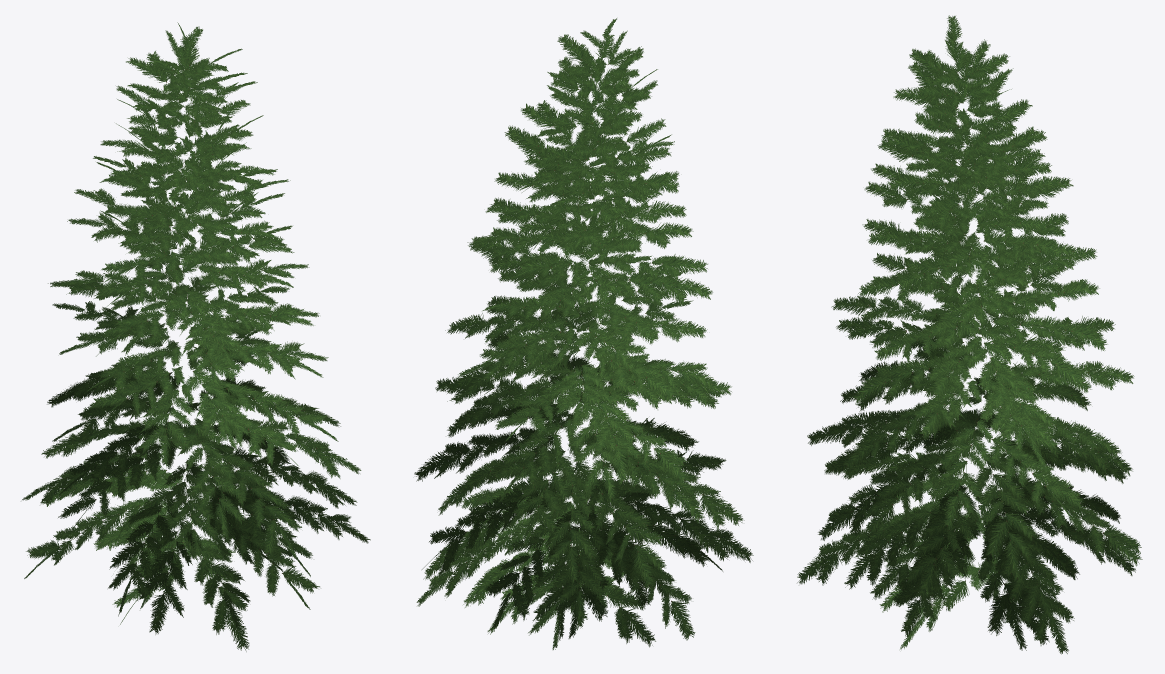
Rendered from SM_Tree_Pine_A_Leaves.glb.
3 renders of one model, left to right at view 1: azimuth 30°, elevation 25°; view 2: azimuth 150°, elevation 25°; view 3: azimuth 270°, elevation 25°, orthographic.
Parts seen in each view (by area): view 1: SM_Tree_Pine_A_Leaves; view 2: SM_Tree_Pine_A_Leaves; view 3: SM_Tree_Pine_A_Leaves.
Boxes of the visible parts, bbox=[...] form: SM_Tree_Pine_A_Leaves: bbox=[22, 22, 370, 651]; SM_Tree_Pine_A_Leaves: bbox=[414, 18, 753, 649]; SM_Tree_Pine_A_Leaves: bbox=[797, 15, 1142, 654].
Bounding box in the file's own units: 7.73 × 15.69 × 8.24.
Materials: 1 (1 with a texture image).
